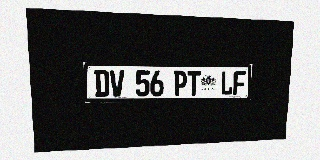5: (136, 70, 150, 96)
6: (150, 70, 164, 96)
D: (94, 70, 110, 97)
F: (233, 71, 246, 95)
L: (220, 71, 233, 95)
P: (173, 70, 187, 96)
T: (187, 70, 200, 96)
V: (110, 70, 124, 97)
